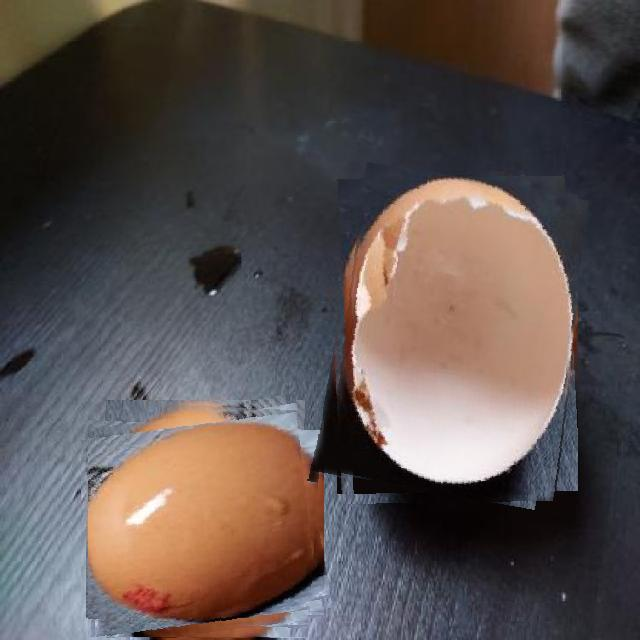biodegradable: (325, 171, 578, 504), (88, 401, 323, 637)
